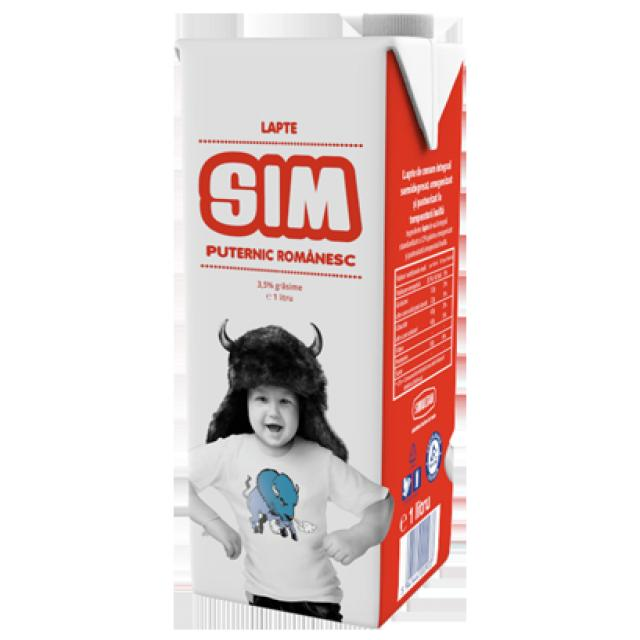milk: (172, 12, 467, 627)
